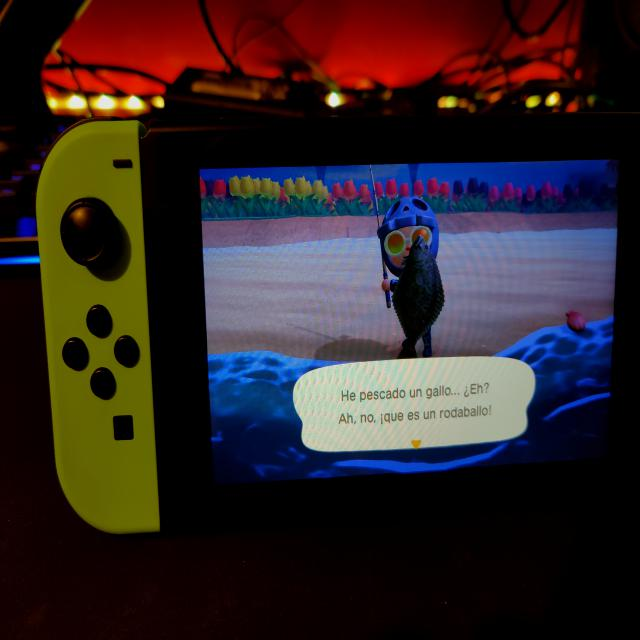text_bubble: (292, 352, 540, 457)
